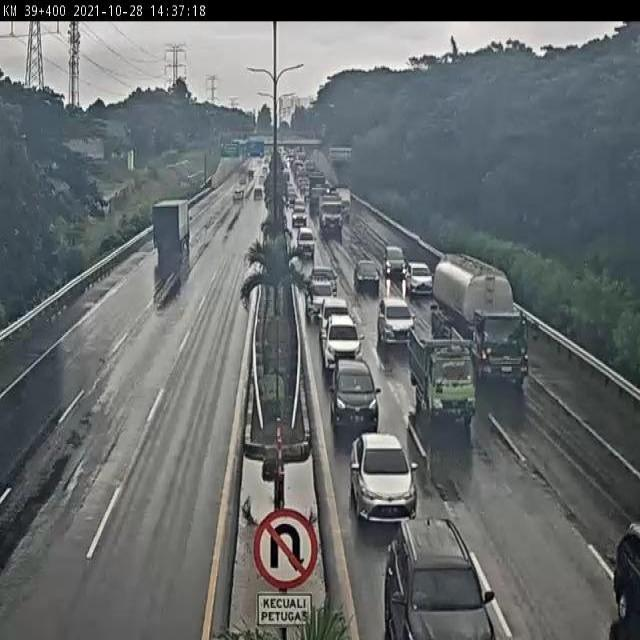big truck: (439, 256, 538, 388), (149, 197, 195, 260), (317, 192, 345, 239)
car: (376, 520, 506, 640), (348, 437, 429, 516), (329, 362, 389, 430), (611, 513, 640, 632), (322, 312, 364, 371), (376, 294, 420, 350), (346, 253, 386, 304), (311, 296, 360, 336), (311, 272, 346, 317), (379, 241, 407, 287), (403, 264, 437, 296), (295, 227, 319, 269), (290, 204, 312, 232)
small truck: (403, 321, 479, 431)
